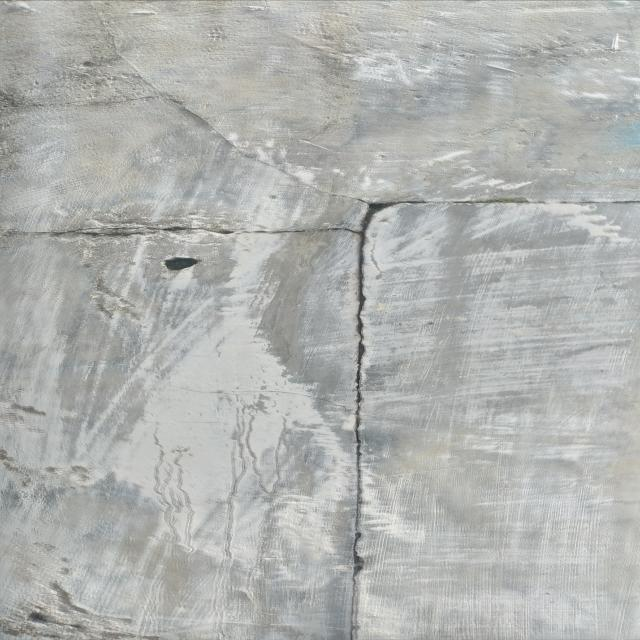Crack: (11, 194, 640, 640)
